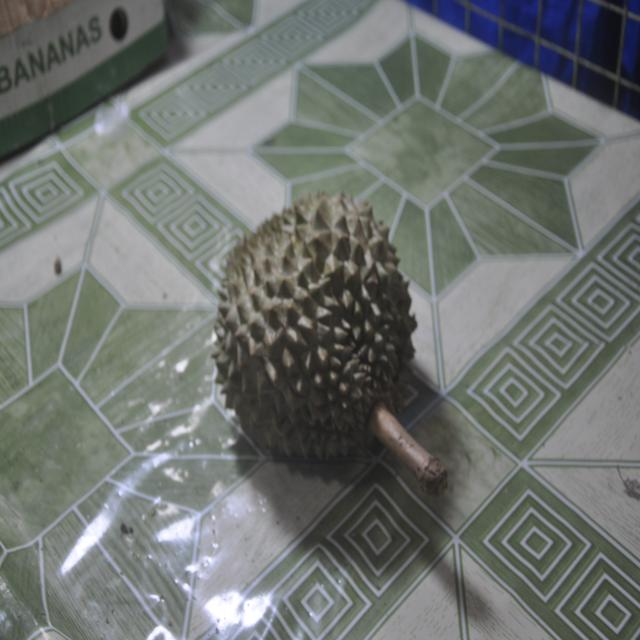mature: (212, 191, 447, 495)
